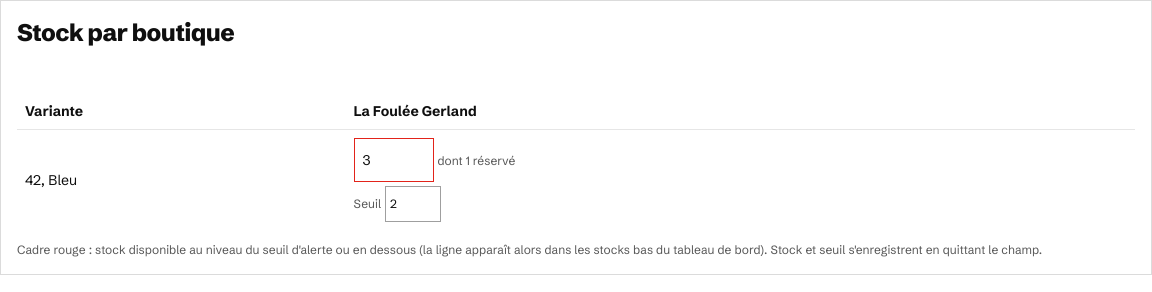
Scenario: StockGrid (EA04) › un stock modifié est enregistré en quittant le champ ; le réservé est annoncé
Replace the text in the number field named "Stock 42 Bleu à La Foulée Gerland" with "7" at {"x": 394, "y": 160}, box [354,138,434,182]
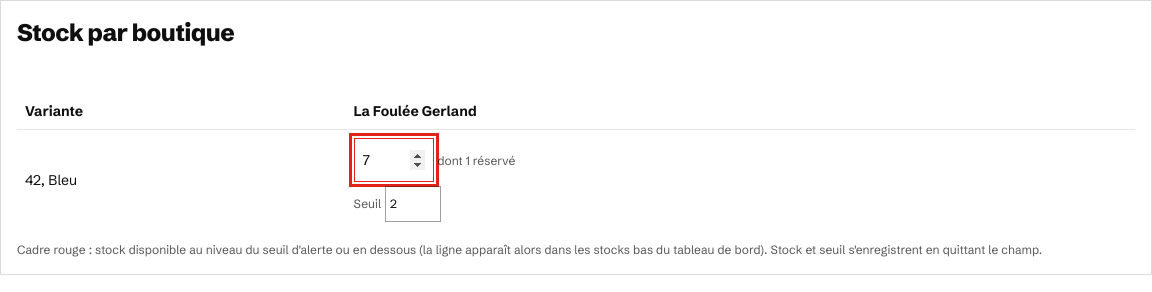
Press Tab
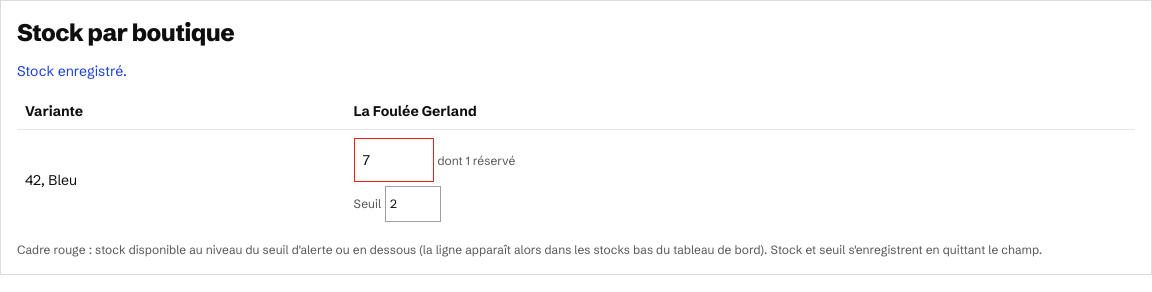
Check: the text "Stock enregistré." is shown, box [17,62,127,80]
